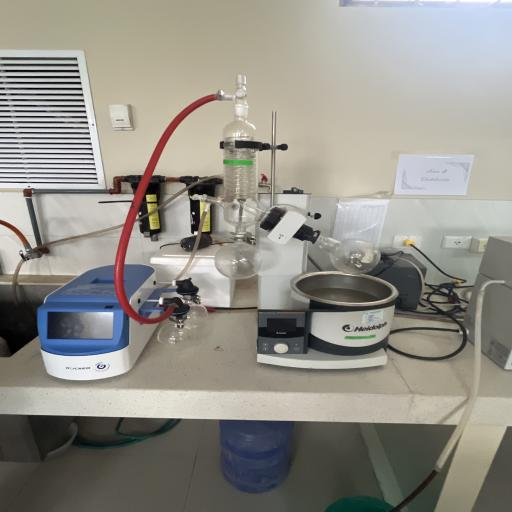Sistema_Rotaevaporacion: (32, 69, 396, 383)
